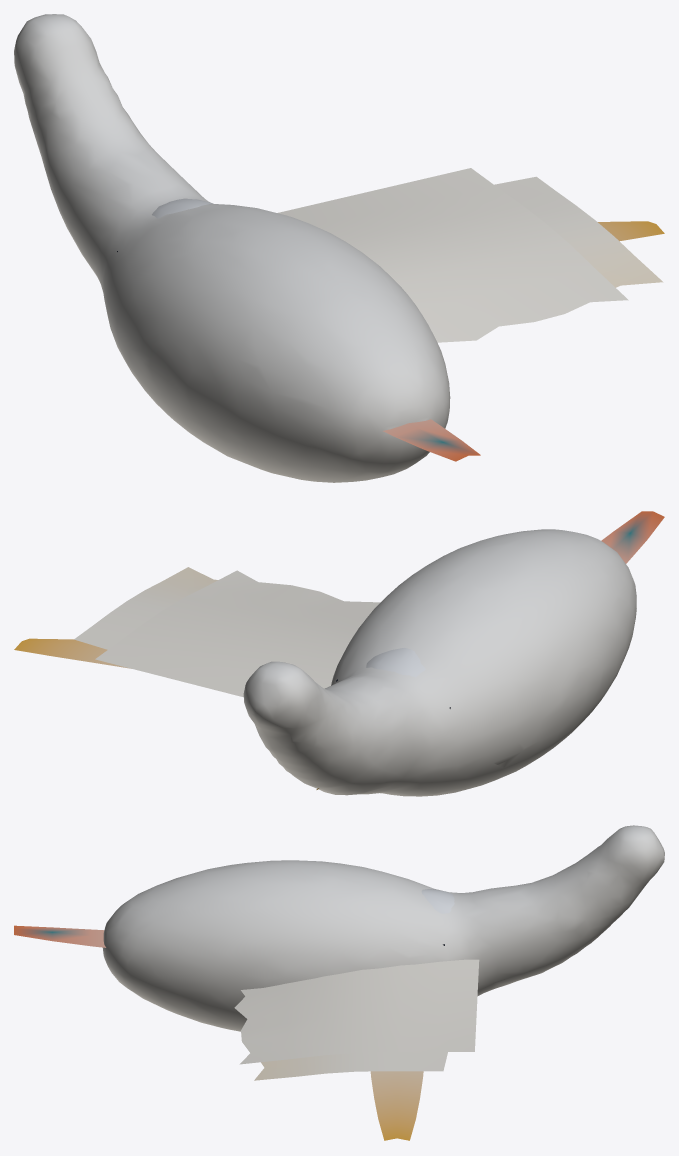
Rendered from creature.glb.
3 views of the same model, one above another, from view 1: azimuth 30°, elevation 25°; view 2: azimuth 150°, elevation 25°; view 3: azimuth 270°, elevation 25° (orthographic). The views are drawn at different scales.
Parts seen in each view (by area): view 1: bird_body, bird_arm, bird_forearm, bird_plume, bird_primary; view 2: bird_body, bird_arm, bird_forearm, bird_plume, bird_primary, bird_head; view 3: bird_body, bird_arm, bird_forearm, bird_primary, bird_plume, bird_head.
Boxes of the visible parts, x1=… form: bird_body: x1=14, y1=14, x2=450, y2=482; bird_arm: x1=277, y1=168, x2=628, y2=342; bird_forearm: x1=494, y1=176, x2=663, y2=287; bird_plume: x1=383, y1=419, x2=480, y2=461; bird_primary: x1=598, y1=221, x2=664, y2=241; bird_body: x1=243, y1=529, x2=636, y2=796; bird_arm: x1=95, y1=570, x2=380, y2=697; bird_forearm: x1=74, y1=567, x2=217, y2=649; bird_plume: x1=601, y1=511, x2=664, y2=563; bird_primary: x1=14, y1=638, x2=131, y2=668; bird_head: x1=316, y1=648, x2=450, y2=789; bird_body: x1=103, y1=825, x2=664, y2=1031; bird_arm: x1=234, y1=959, x2=479, y2=1064; bird_forearm: x1=254, y1=1051, x2=447, y2=1080; bird_primary: x1=370, y1=1071, x2=423, y2=1140; bird_plume: x1=14, y1=925, x2=105, y2=947; bird_head: x1=421, y1=889, x2=454, y2=945.
Bounding box in the file's own units: 1.26 × 0.5709 × 1.7.
